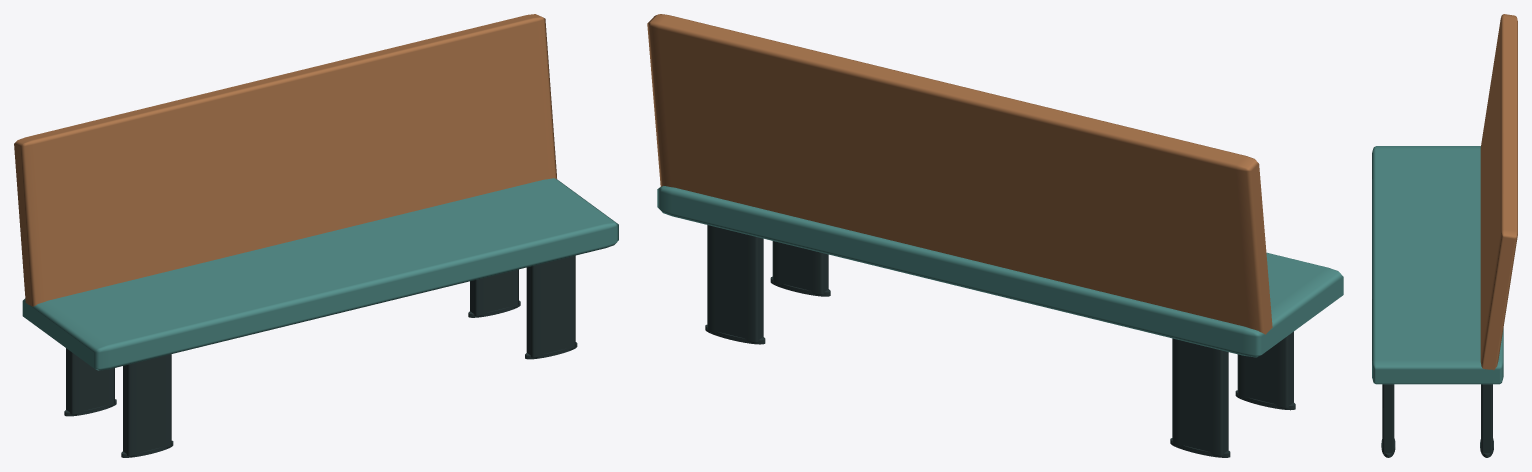
Rendered from wp-banc-de-quai.glb.
3 views of the same model, side by side, from view 1: azimuth 30°, elevation 25°; view 2: azimuth 150°, elevation 25°; view 3: azimuth 270°, elevation 25° (orthographic). The views are drawn at different scales.
Parts seen in each view (by area): view 1: wp-banc-de-quai; view 2: wp-banc-de-quai; view 3: wp-banc-de-quai.
Boxes of the visible parts, x1=… form: wp-banc-de-quai: x1=14, y1=14, x2=618, y2=457; wp-banc-de-quai: x1=647, y1=14, x2=1343, y2=457; wp-banc-de-quai: x1=1372, y1=14, x2=1517, y2=457.
Bounding box in the file's own units: 1.8 × 0.8983 × 0.4984.
